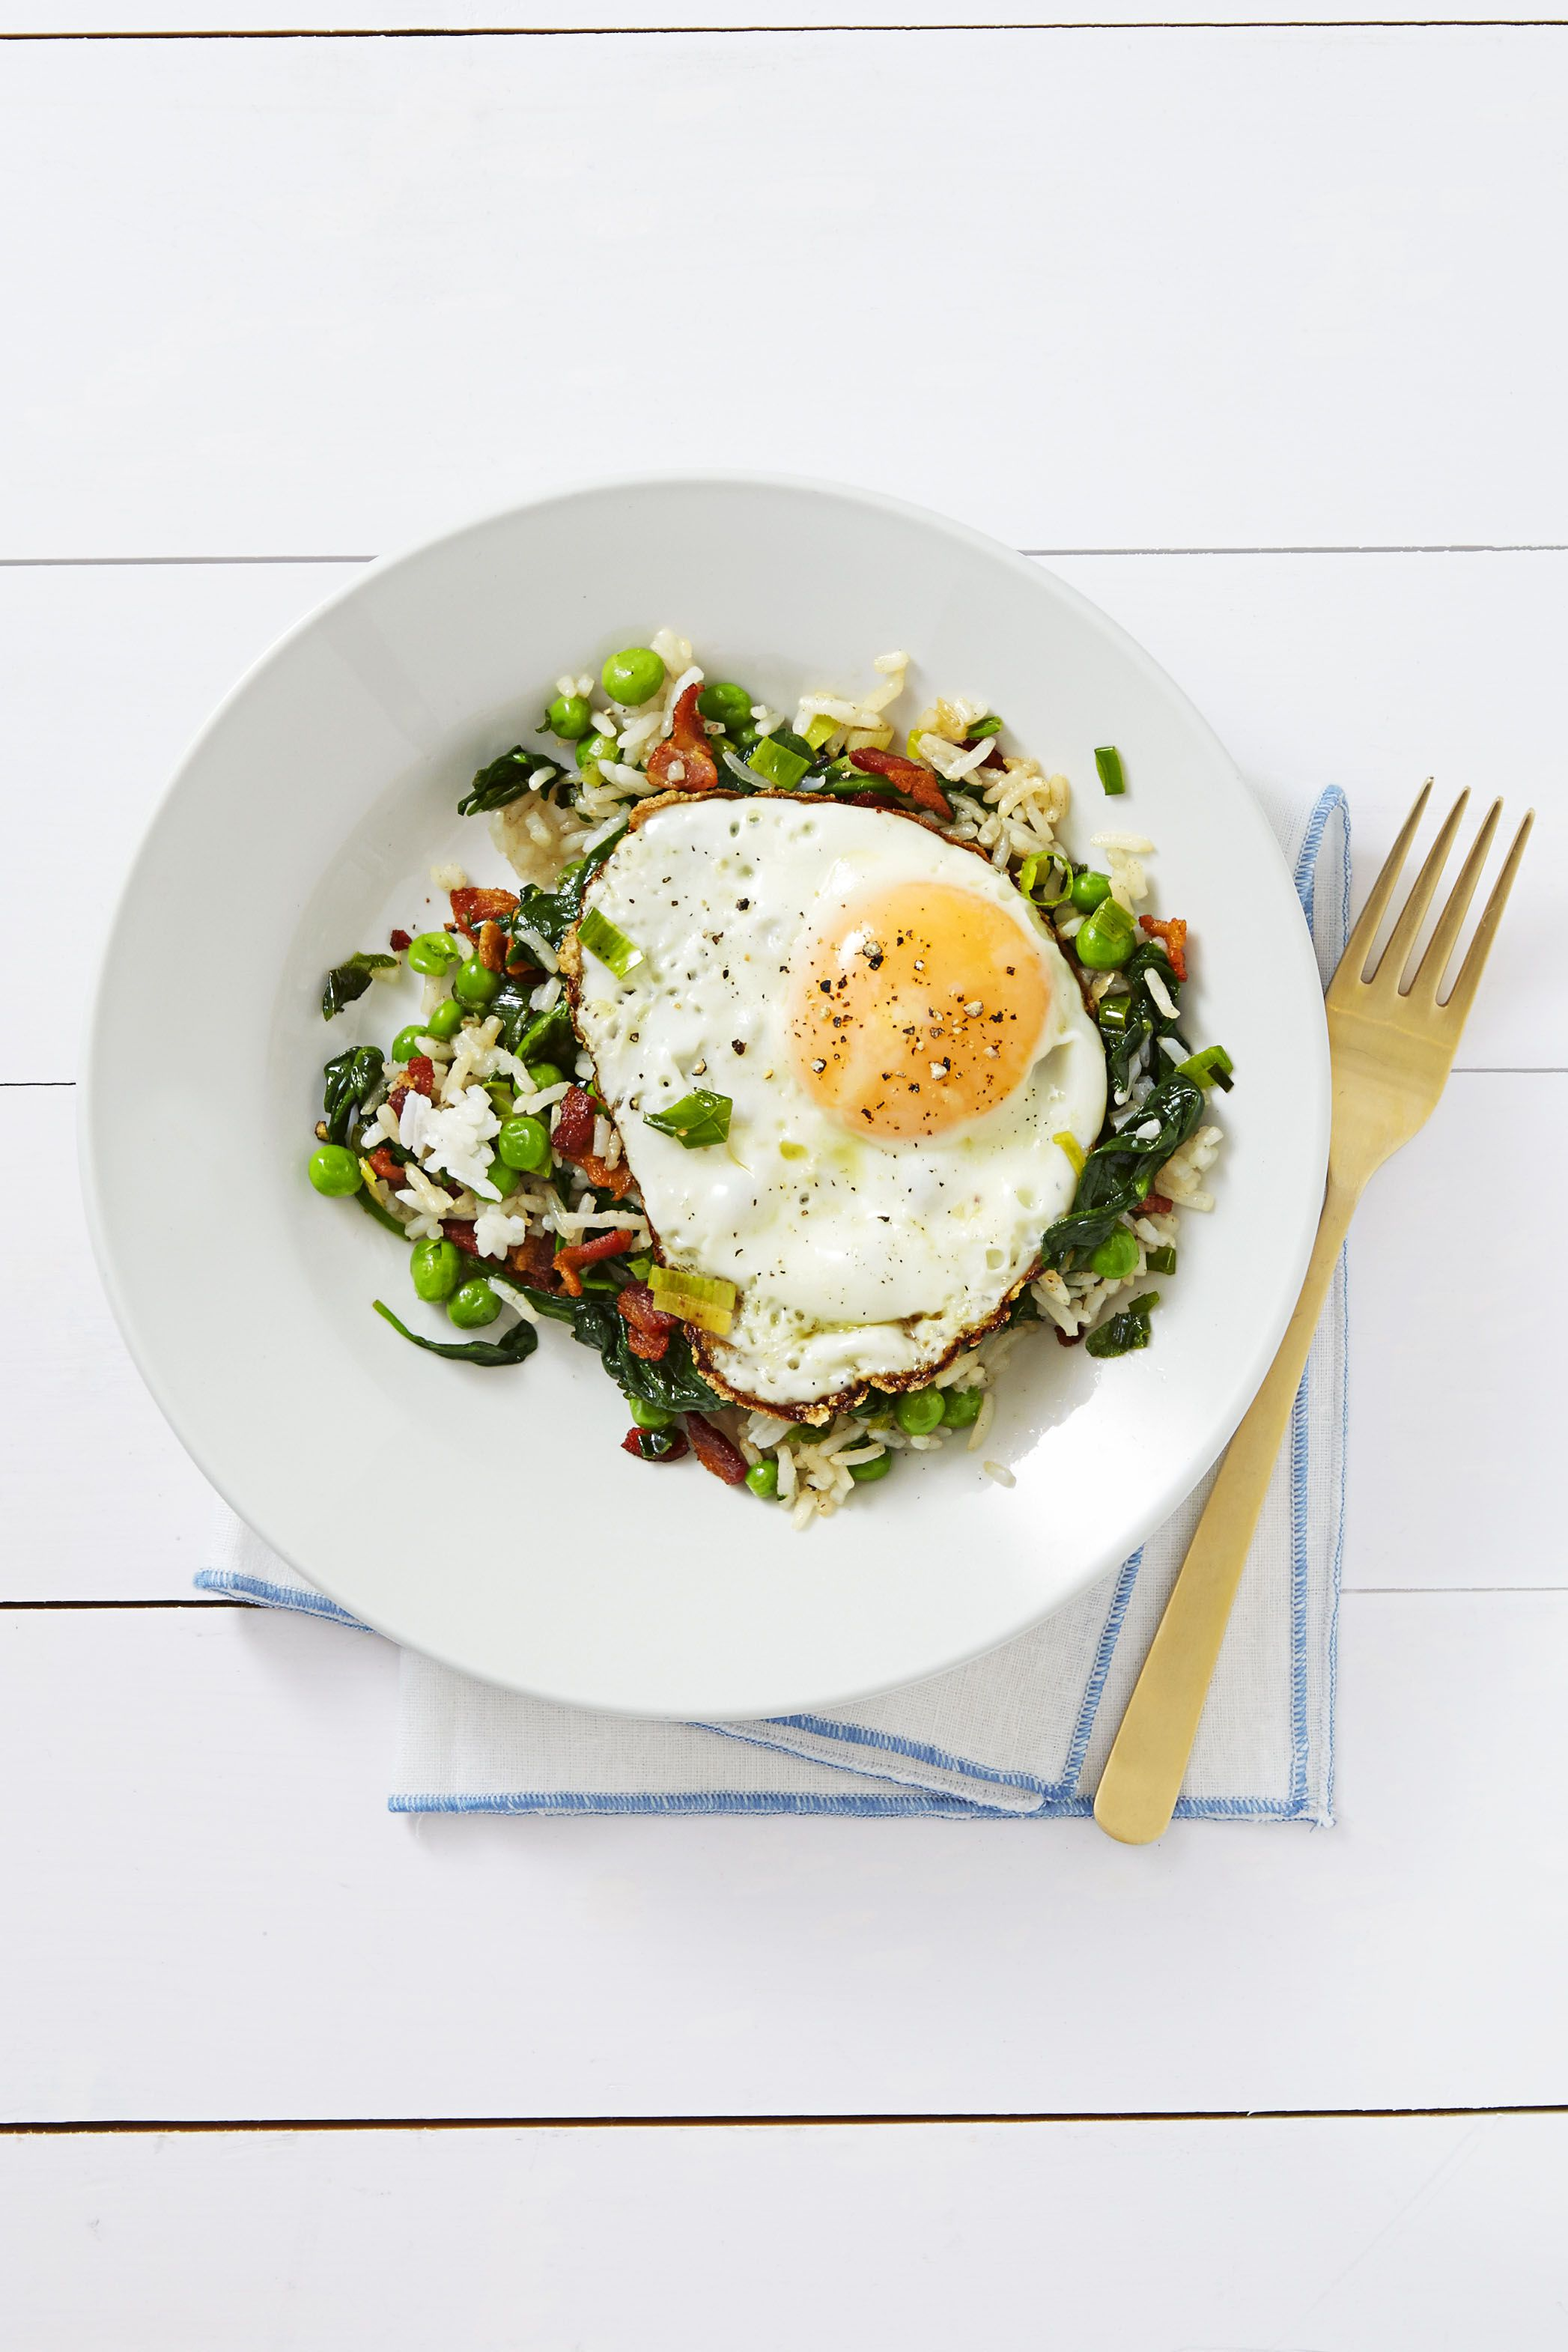fried egg: (604, 816, 1103, 1351)
